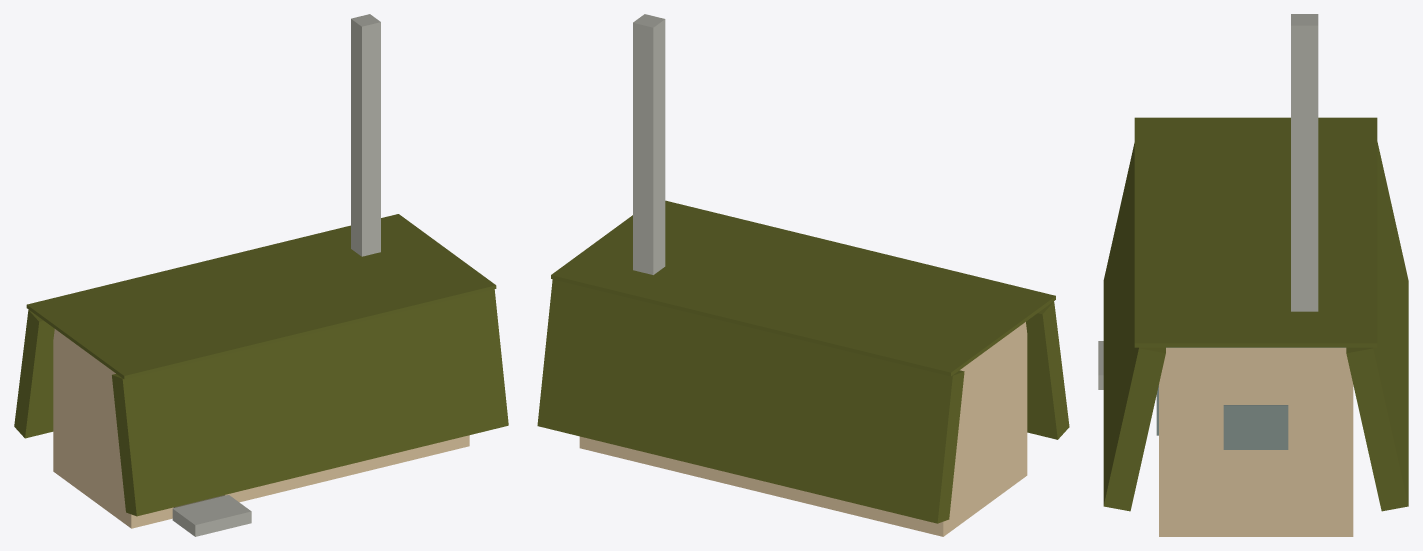
The model's file is SM_Caseta_v4_Antena_LOD1.fbx.
3 views of the same model, side by side, from view 1: azimuth 30°, elevation 25°; view 2: azimuth 150°, elevation 25°; view 3: azimuth 270°, elevation 25° (orthographic). The views are drawn at different scales.
Visible parts, largest first — view 1: SM_ambiente_aerodromo_v14_LOD1; view 2: SM_ambiente_aerodromo_v14_LOD1; view 3: SM_ambiente_aerodromo_v14_LOD1.
Boxes of the visible parts, x1,y1,x2,y2 form: SM_ambiente_aerodromo_v14_LOD1: (14, 14, 508, 536); SM_ambiente_aerodromo_v14_LOD1: (537, 14, 1069, 536); SM_ambiente_aerodromo_v14_LOD1: (1098, 14, 1408, 536).
Bounding box in the file's own units: 6.6 × 6.68 × 3.84.
